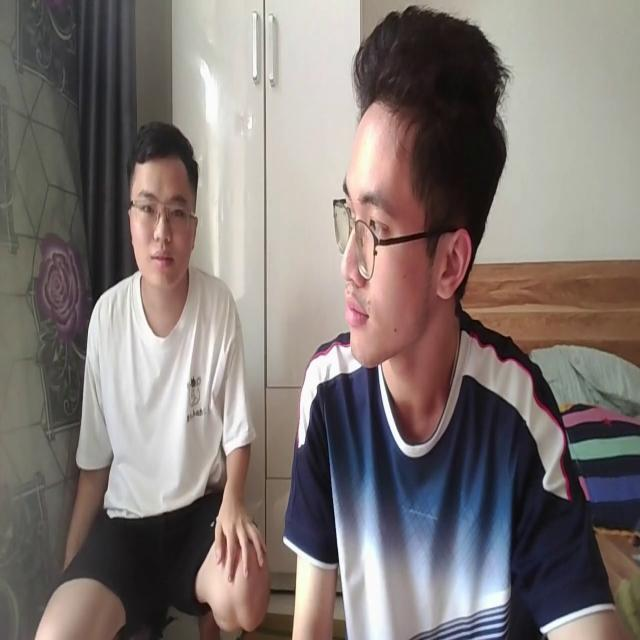extra_person: (36, 114, 269, 640)
student: (280, 0, 630, 640)
